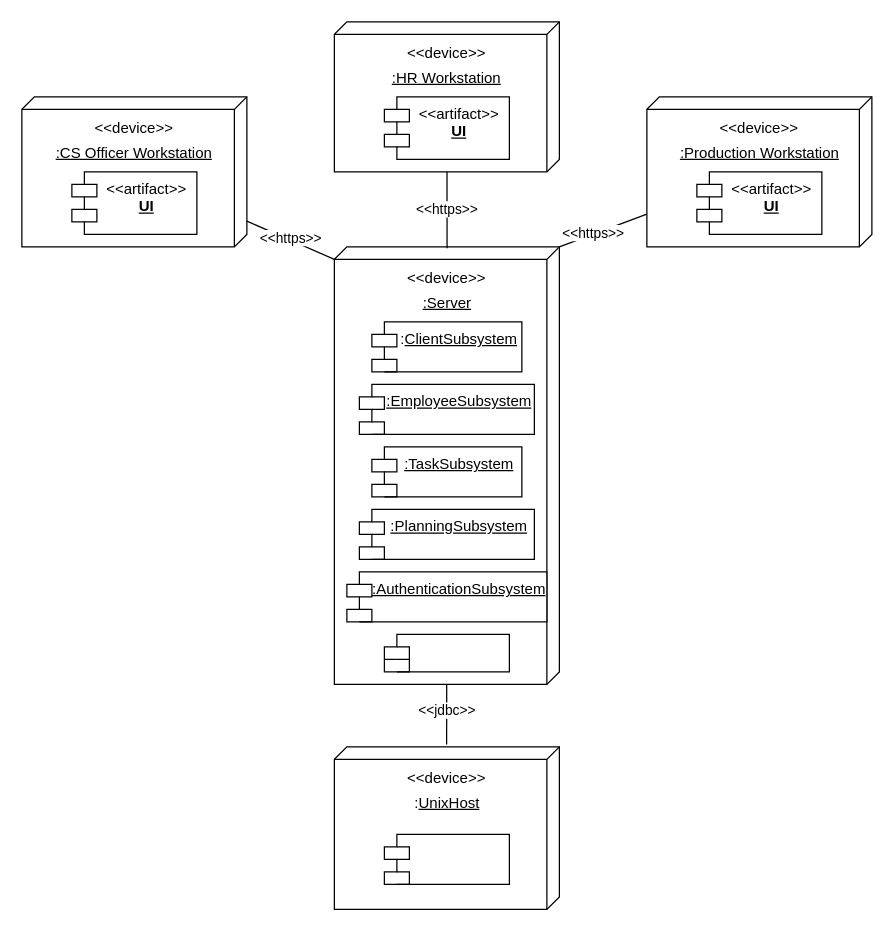
The diagram is 894 pixels wide and 931 high, and some of its shapes have lost their labels. The box of each missing label's shape, as (x1, y1, x2, y2) in pixels:
: Database: (383, 833, 509, 884)
: Storage: (383, 633, 509, 672)
